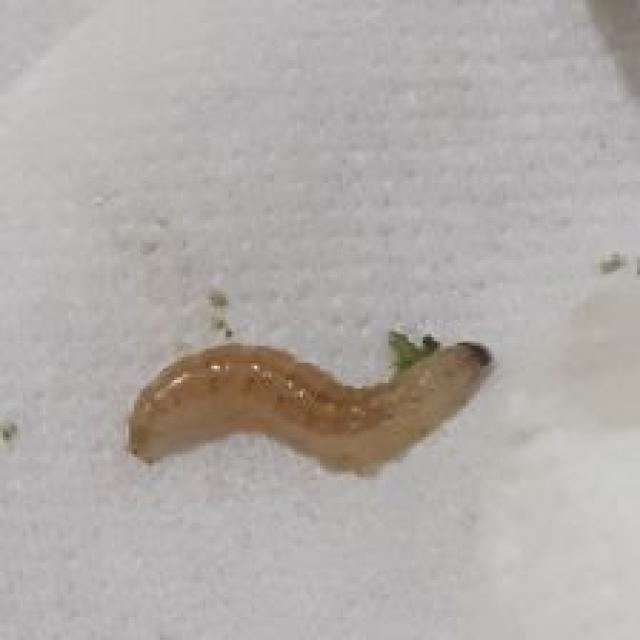white mucus: (102, 298, 502, 474)
